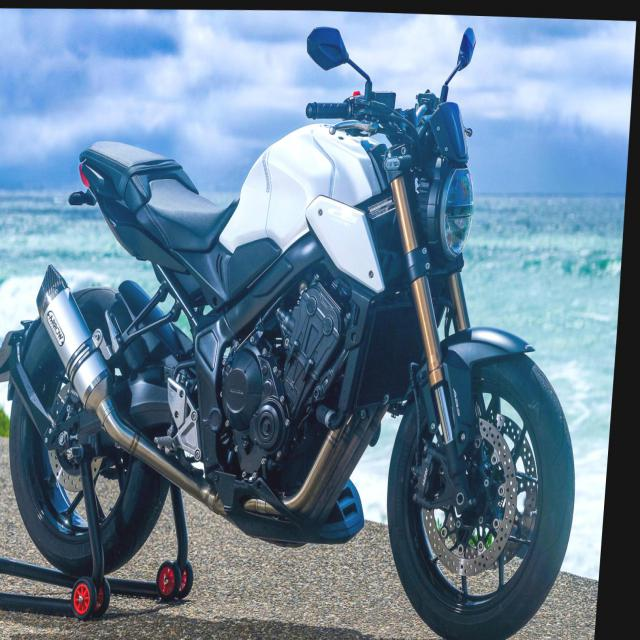CB650R: (0, 5, 613, 639)
